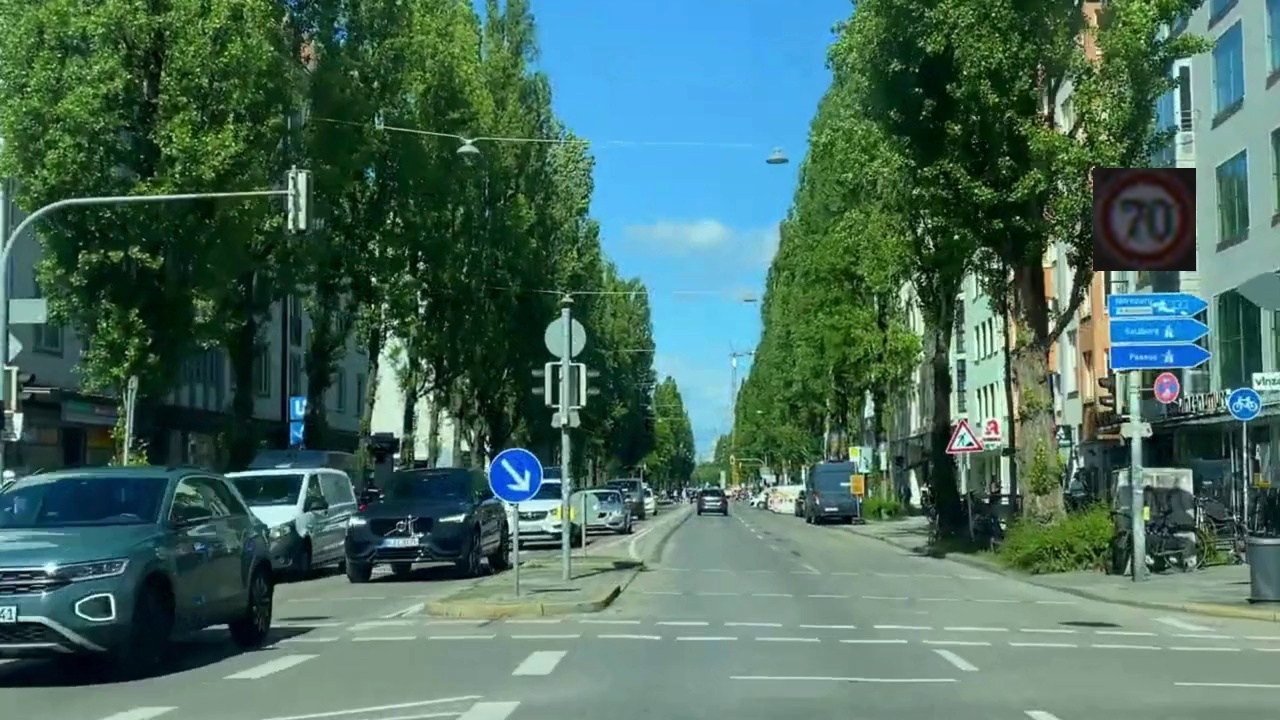Speed 70: (1093, 168, 1196, 271)
